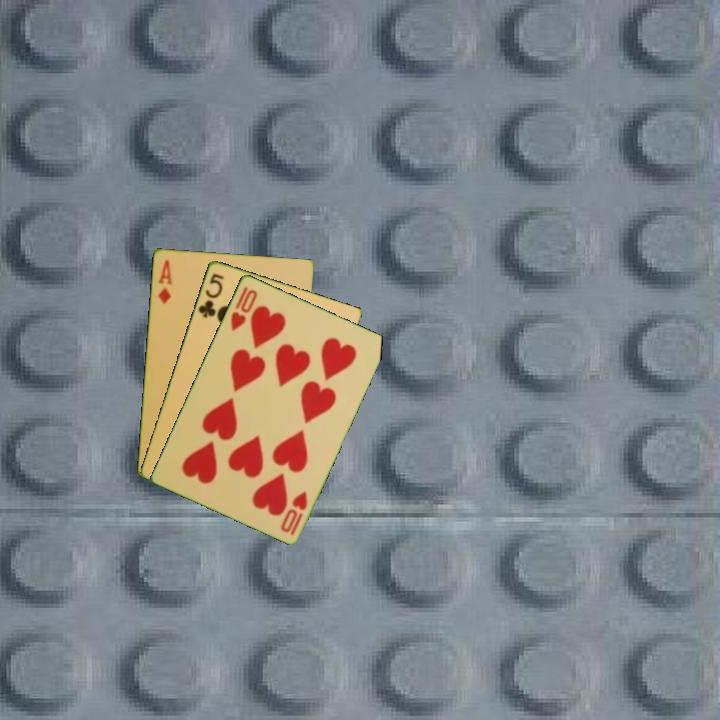10h: (277, 487, 310, 538), (227, 283, 260, 333)
5c: (194, 269, 226, 320)
Ad: (154, 256, 175, 307)
